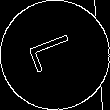L_E: (26, 32, 84, 78)
